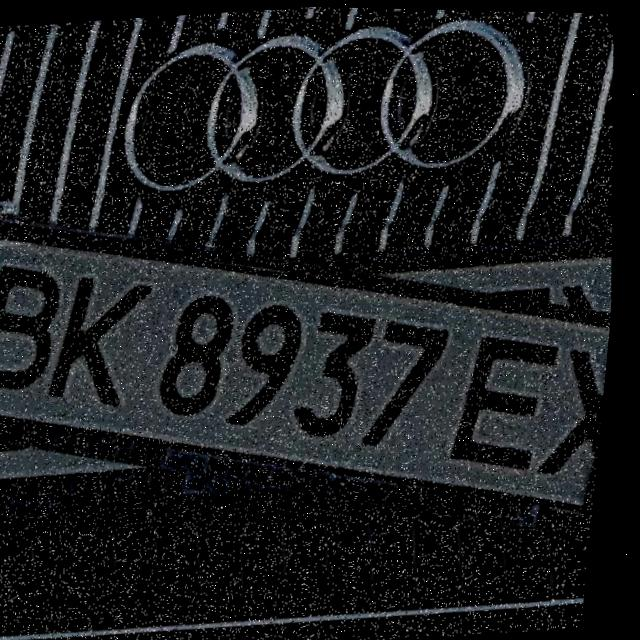LicensePlate: (0, 192, 625, 552)
